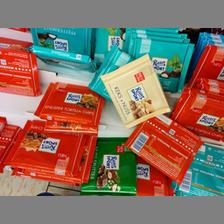Schokolade: (123, 111, 197, 177), (105, 58, 172, 122), (5, 118, 81, 170), (125, 35, 186, 91), (80, 135, 136, 191), (35, 81, 101, 123), (170, 90, 222, 138), (29, 44, 95, 74), (1, 48, 36, 96)
